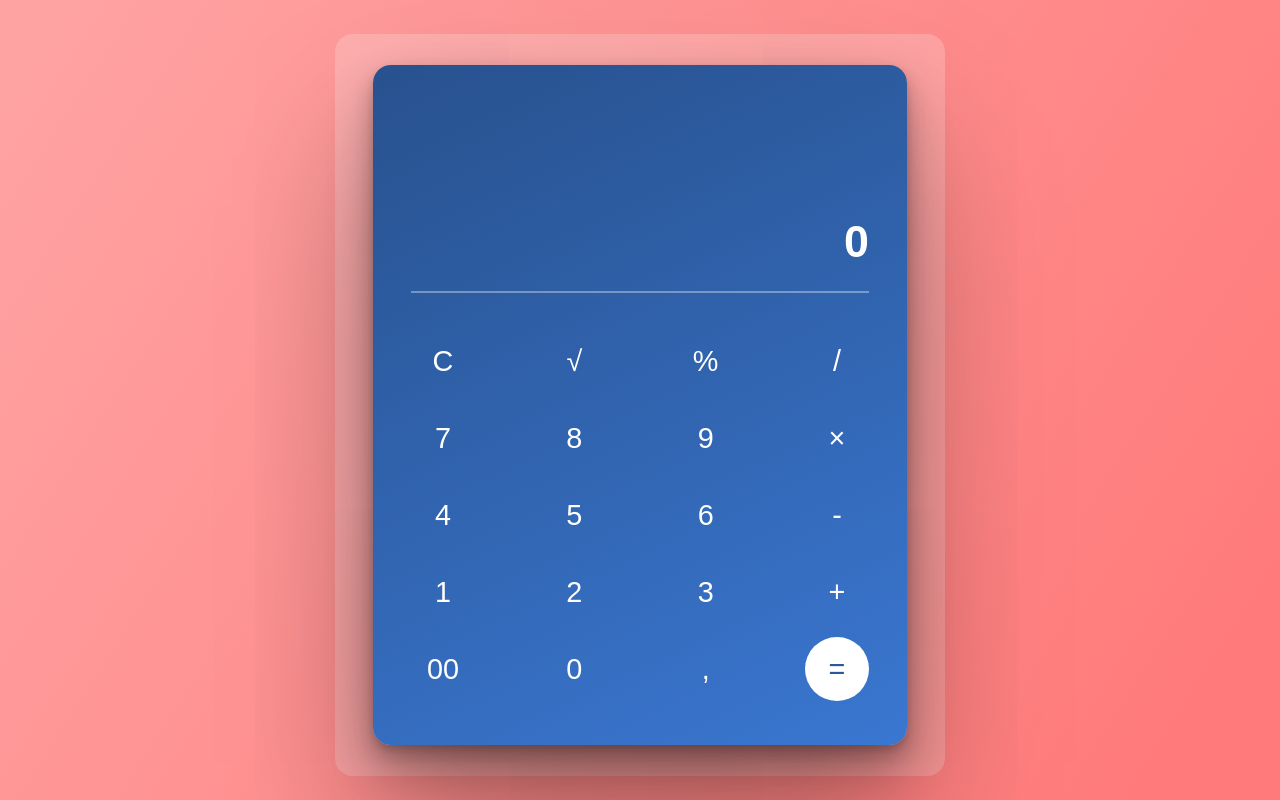
CalculatorItem display result
The image size is (1280, 800).
Expected: the element named "result" reads "0", [844,216,869,266]
Step 1. Click the button "5" → click(574, 515), box [566,499,582,531]
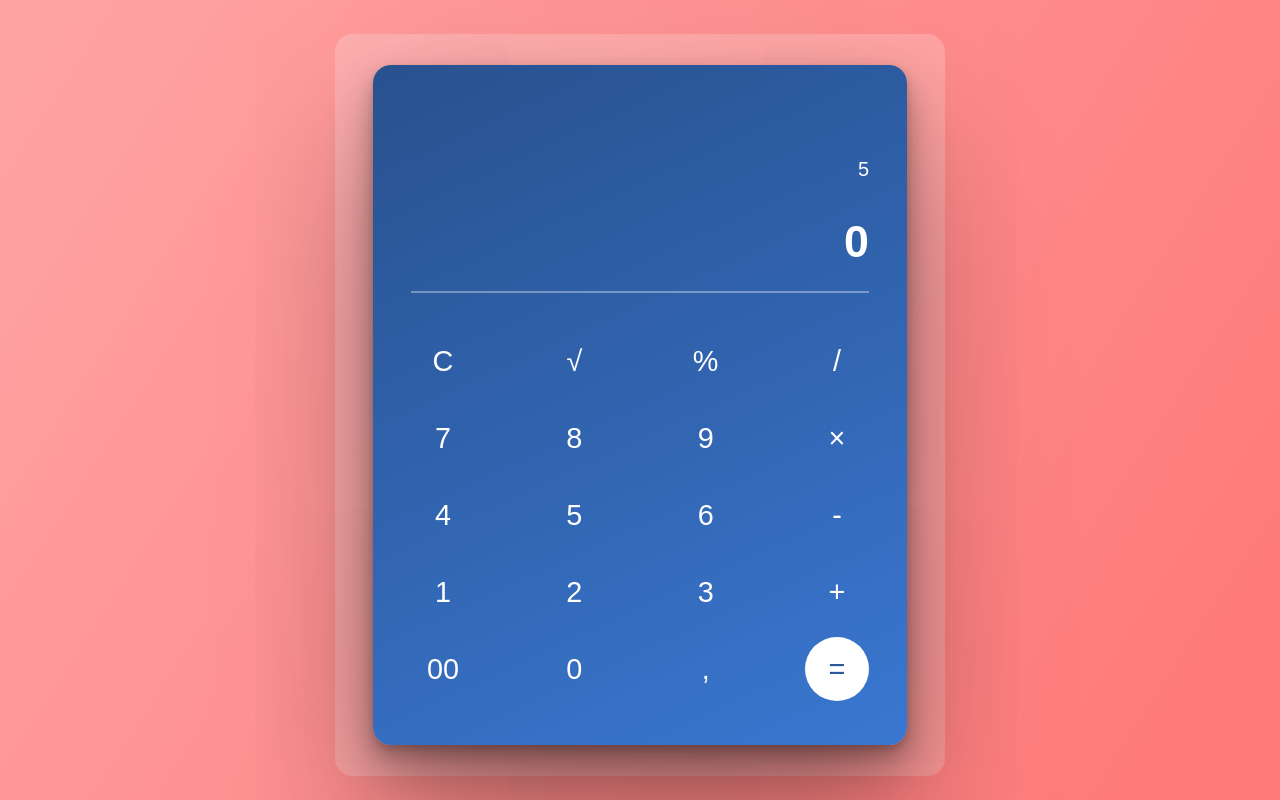
Step 2. Click the button "=" → click(837, 669), box [805,637,869,701]
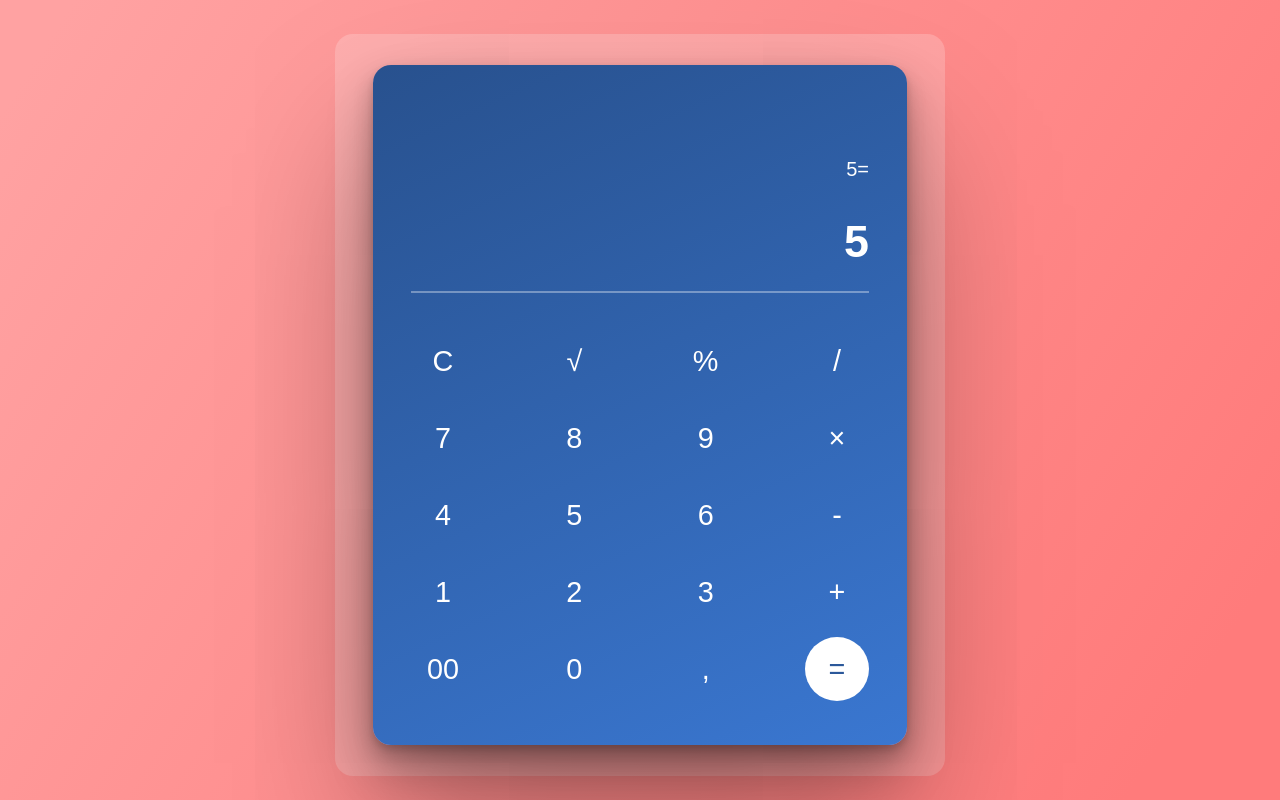
Result: the element named "result" reads "5" at [844,216,869,266]
Step 3. Click the button "C" → click(443, 361), box [433,345,453,377]
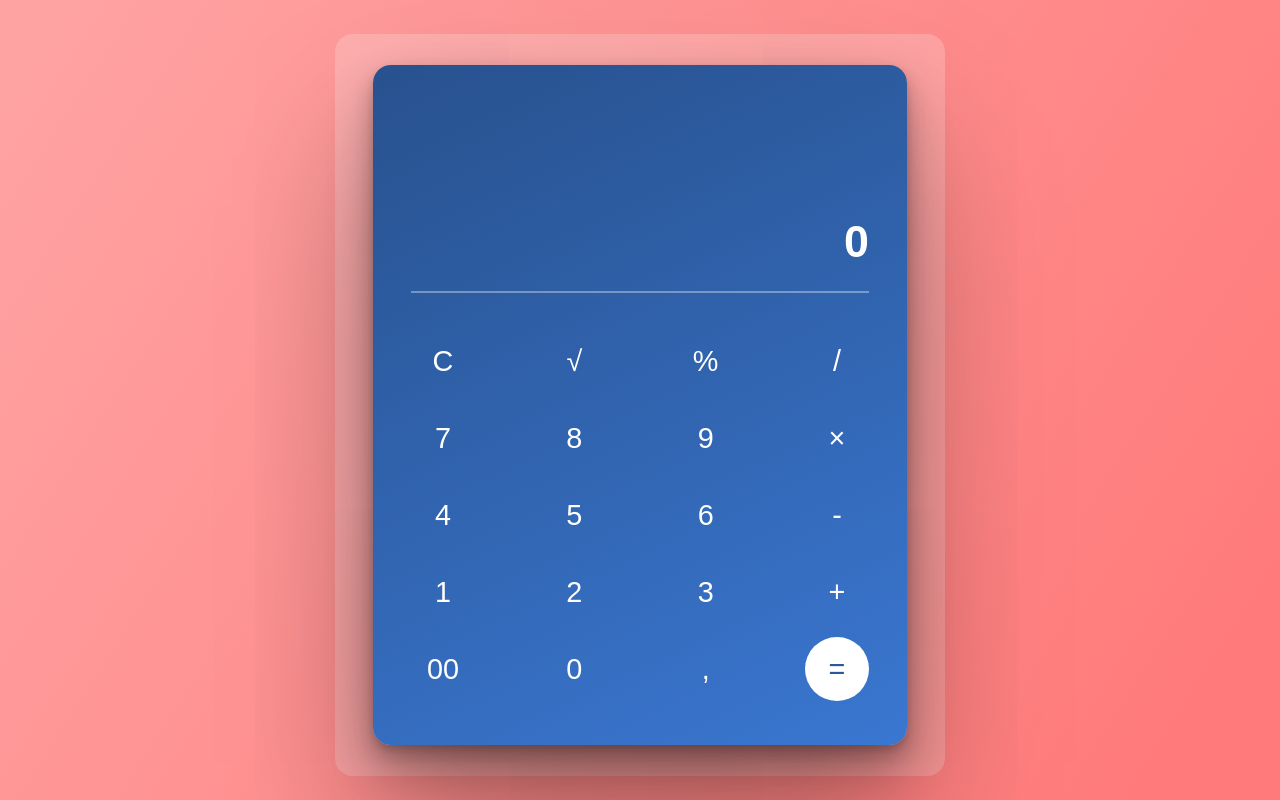
Result: the element named "result" reads "0" at [844,216,869,266]
